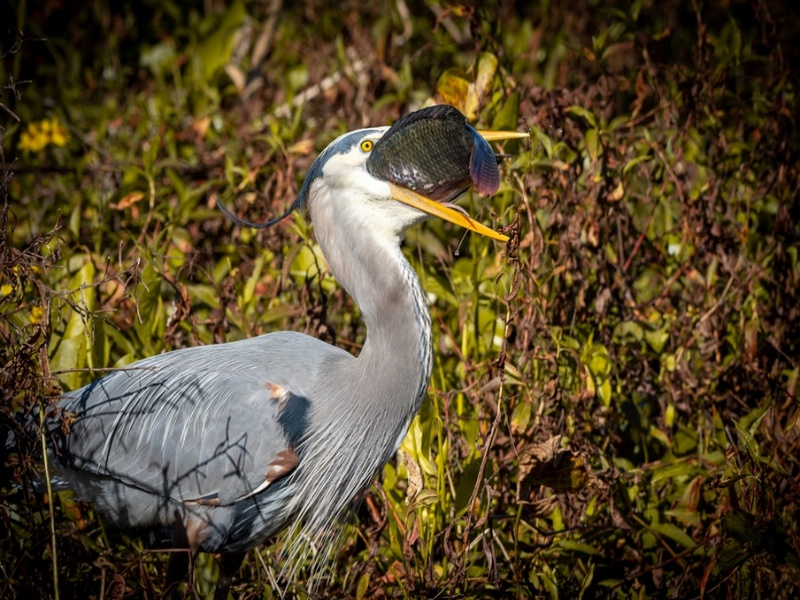heron: (53, 118, 533, 552)
